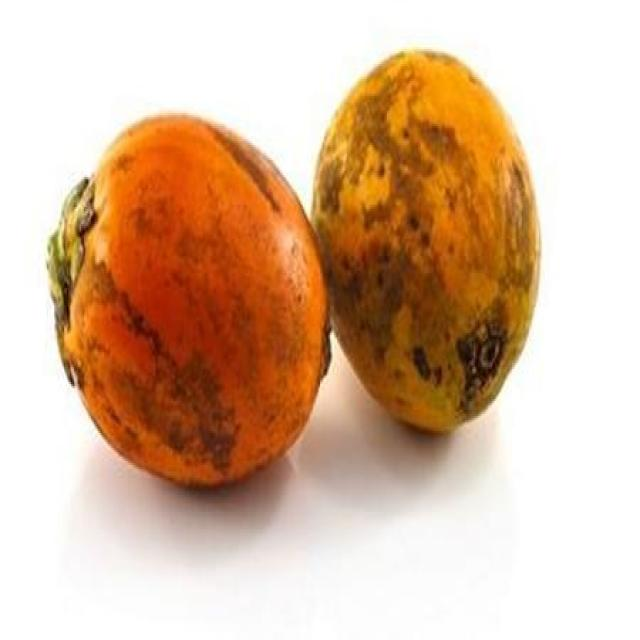good: (47, 115, 331, 491), (307, 51, 543, 437)
